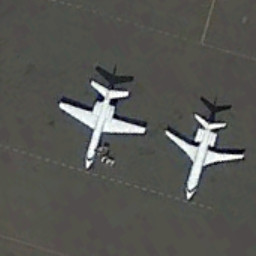Airplane: (53, 71, 152, 179), (157, 102, 249, 212)
